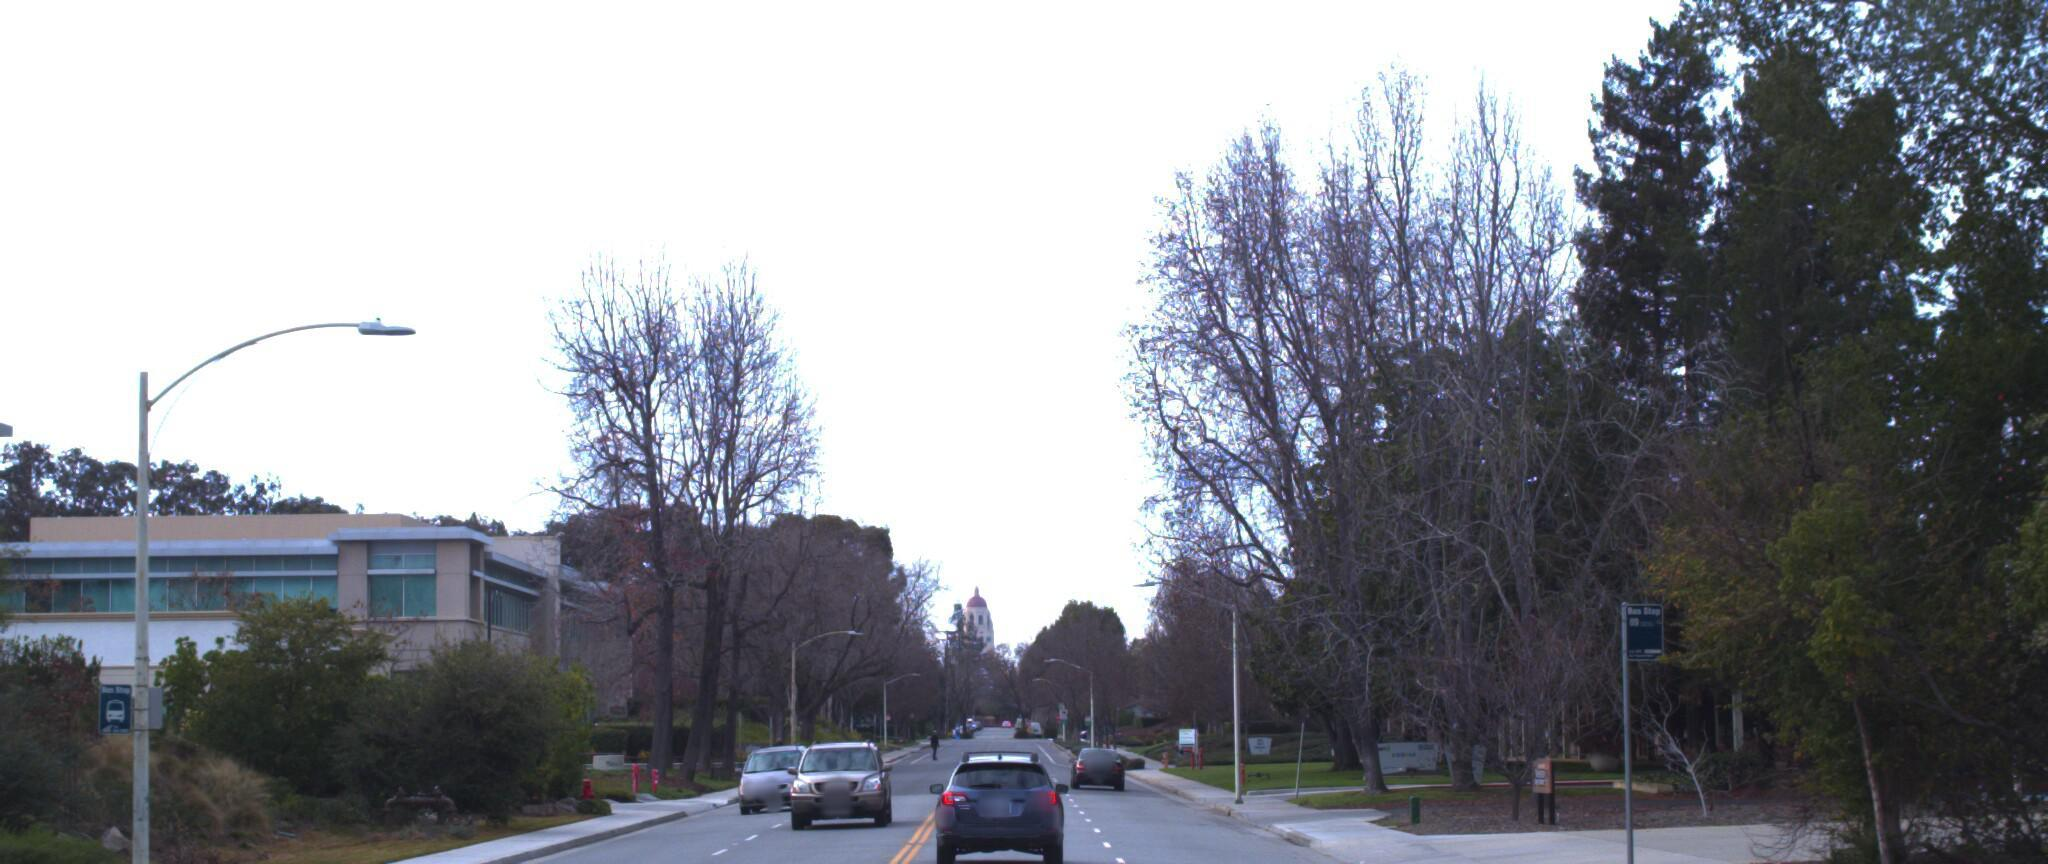car: (936, 747, 1061, 864), (780, 731, 887, 824)
